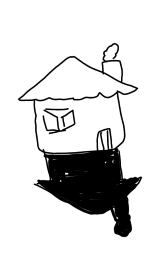door: (97, 123, 119, 154)
open_window: (41, 103, 79, 134)
roof: (9, 54, 146, 106)
shadow: (30, 144, 146, 241)
smoking_chimney: (95, 35, 129, 84)
wall: (31, 90, 128, 160)
